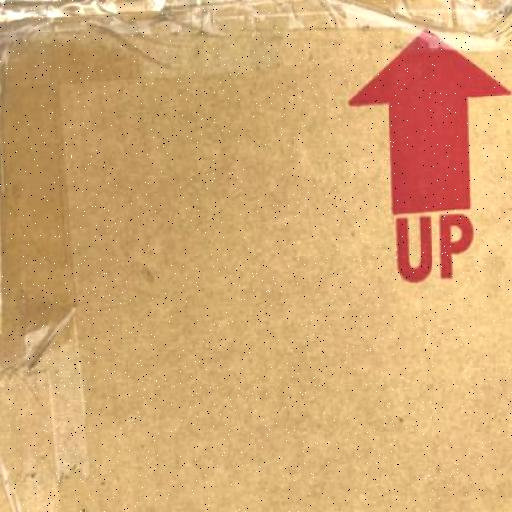cardboard: (1, 1, 512, 512)
